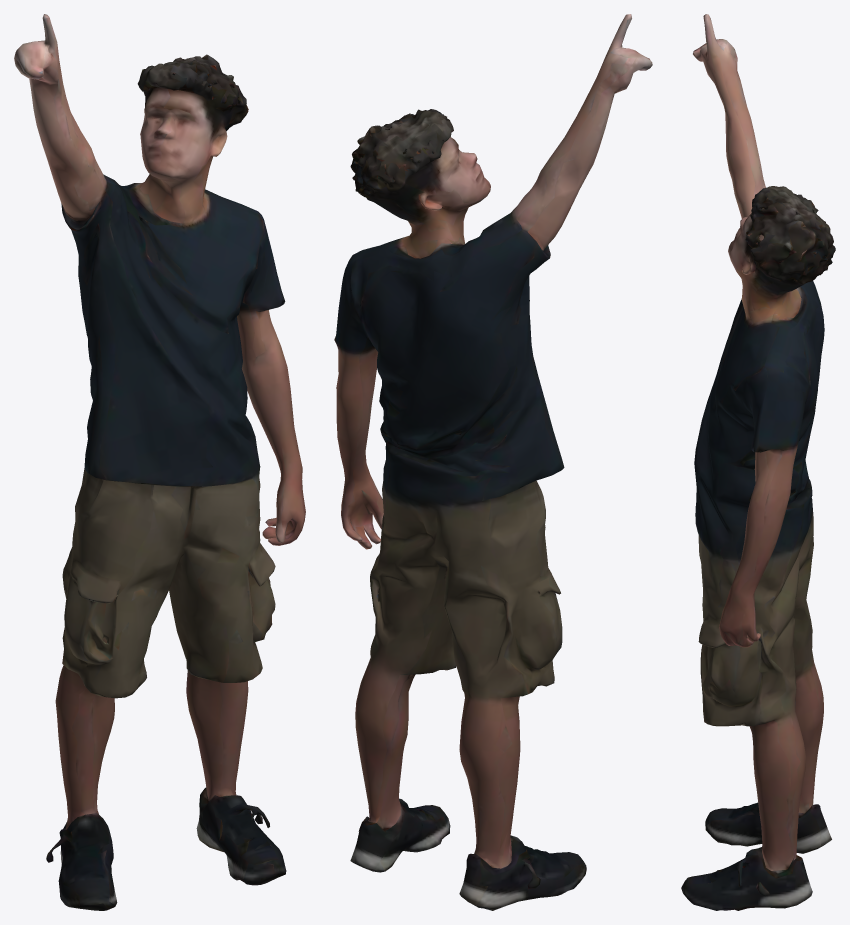
The model's file is fan-m-point-s1.glb.
3 renders of one model, left to right at view 1: azimuth 30°, elevation 25°; view 2: azimuth 150°, elevation 25°; view 3: azimuth 270°, elevation 25°, orthographic. The views are drawn at different scales.
Visible parts, largest first — view 1: geometry_0; view 2: geometry_0; view 3: geometry_0.
Part boxes in pixels (x1,y1,x2,y2): geometry_0: [14, 14, 305, 910]; geometry_0: [334, 14, 652, 910]; geometry_0: [681, 14, 835, 910].
Bounding box in the file's own units: 0.3422 × 0.9999 × 0.176.
Materials: 1 (1 with a texture image).
